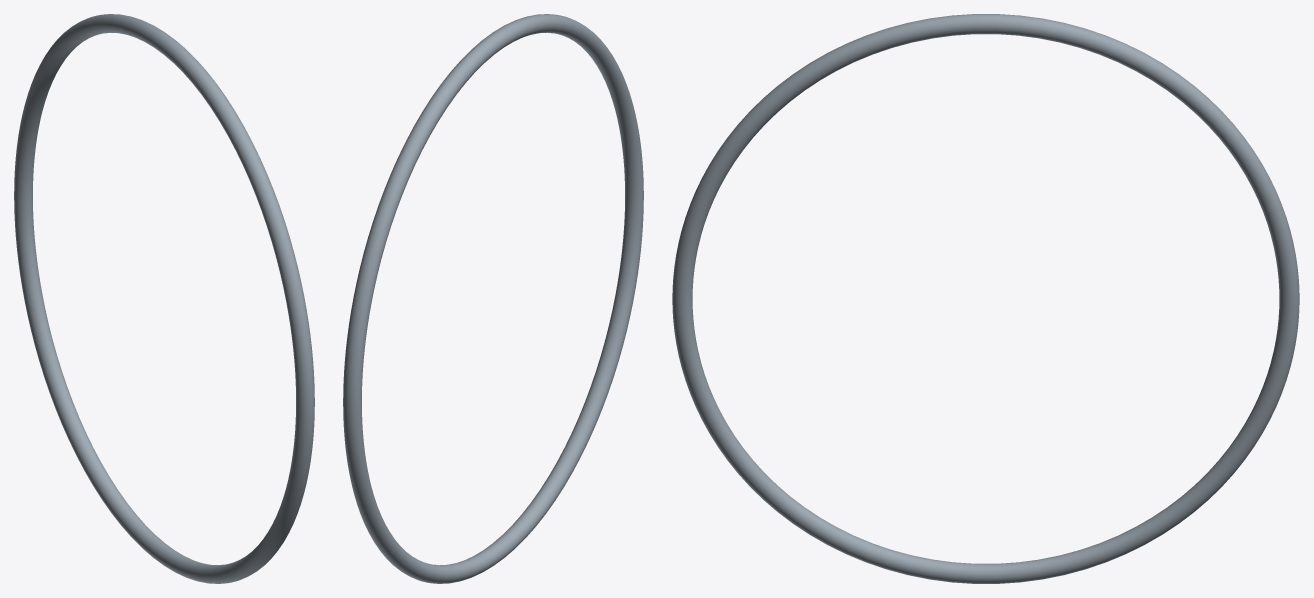
The model's file is Big Ring.dae.
3 renders of one model, left to right at view 1: azimuth 30°, elevation 25°; view 2: azimuth 150°, elevation 25°; view 3: azimuth 270°, elevation 25°, orthographic. The views are drawn at different scales.
Size of the model in its own units: 2 by 61.99 by 62.
